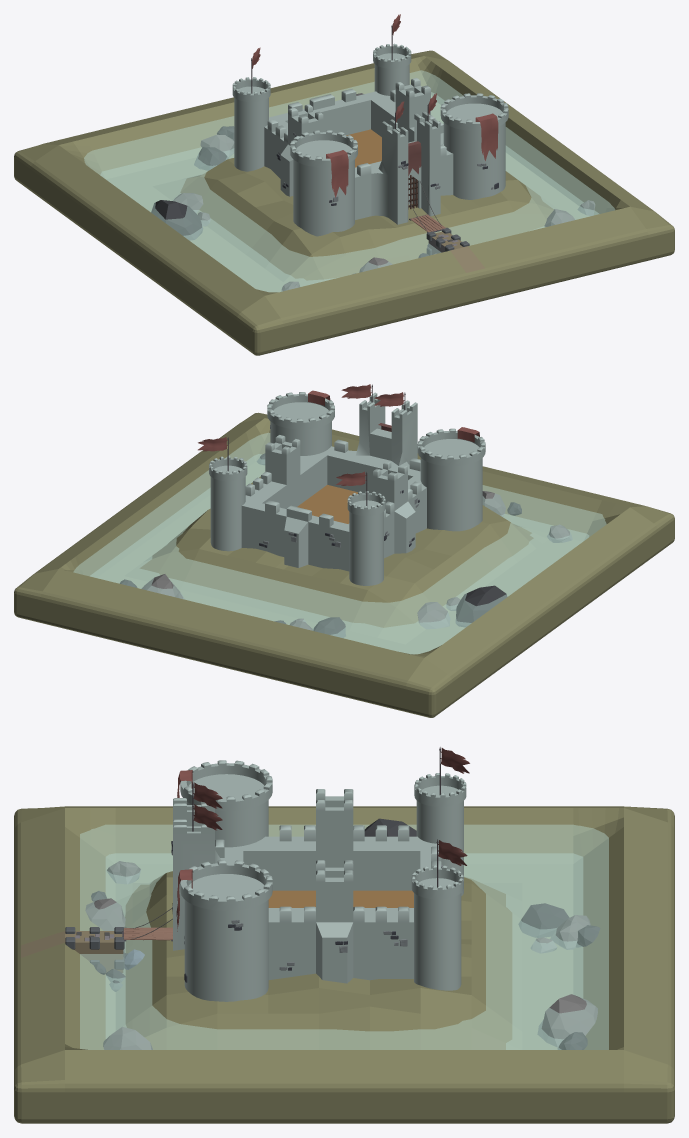
The model's file is castillo.glb.
3 renders of one model, top to bottom at view 1: azimuth 30°, elevation 25°; view 2: azimuth 150°, elevation 25°; view 3: azimuth 270°, elevation 25°, orthographic. The views are drawn at different scales.
Visible parts, largest first — view 1: Plane.015_15, Plane.001_2, Plane.012_13, Plane.020_20, Plane.019_19, Plane.002_3, Plane.008_9, Plane.022_22; view 2: Plane.015_15, Plane.001_2, Plane.012_13, Plane.019_19, Plane.020_20, Plane.002_3, Plane.008_9; view 3: Plane.015_15, Plane.012_13, Plane.001_2, Plane.019_19, Plane.020_20, Plane.002_3, Plane.008_9, Plane.022_22, Plane.018_18, Plane.003_4.
Part boxes in pixels (x1,y1,x2,y2): Plane.015_15: (14,50,674,355); Plane.001_2: (232,43,508,236); Plane.012_13: (84,70,614,292); Plane.020_20: (151,126,428,273); Plane.019_19: (173,93,595,291); Plane.002_3: (252,14,498,197); Plane.008_9: (346,129,381,167); Plane.022_22: (432,231,484,272); Plane.015_15: (14,412,674,717); Plane.001_2: (209,392,485,585); Plane.012_13: (74,433,606,654); Plane.019_19: (141,458,572,630); Plane.020_20: (120,453,521,637); Plane.002_3: (198,384,479,485); Plane.008_9: (297,485,357,523); Plane.015_15: (14,806,674,1123); Plane.012_13: (80,825,608,1049); Plane.001_2: (173,760,466,1001); Plane.019_19: (85,861,597,1049); Plane.020_20: (91,818,600,1049); Plane.002_3: (176,748,469,931); Plane.008_9: (268,890,413,907); Plane.022_22: (21,931,123,973); Plane.018_18: (65,927,124,969); Plane.003_4: (123,927,172,940).
Size of the model in its own units: 38.7 by 13.72 by 38.7.
